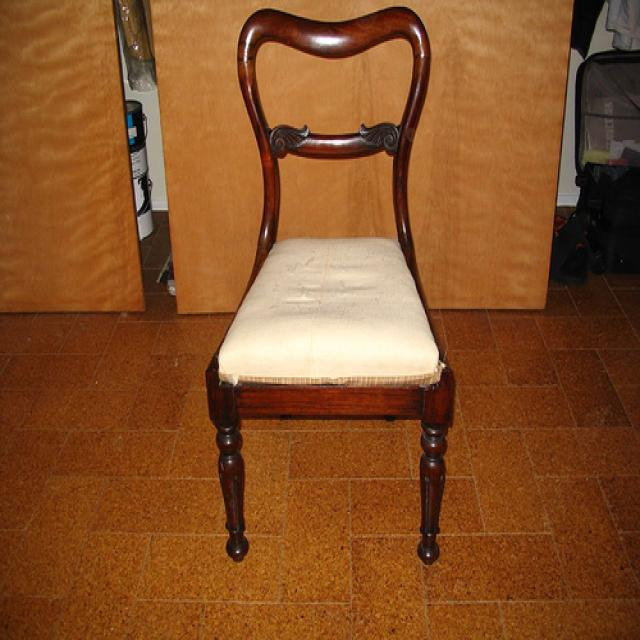chair: (202, 3, 460, 569)
